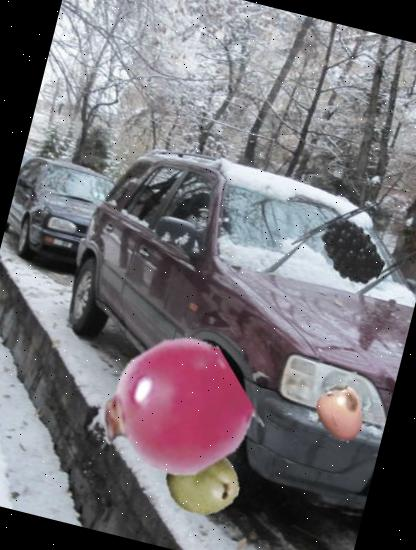Kaki: (302, 376, 376, 450)
Mulberry: (309, 210, 395, 296)
Pear: (158, 435, 249, 526)
Redcurrant: (86, 324, 262, 500)
